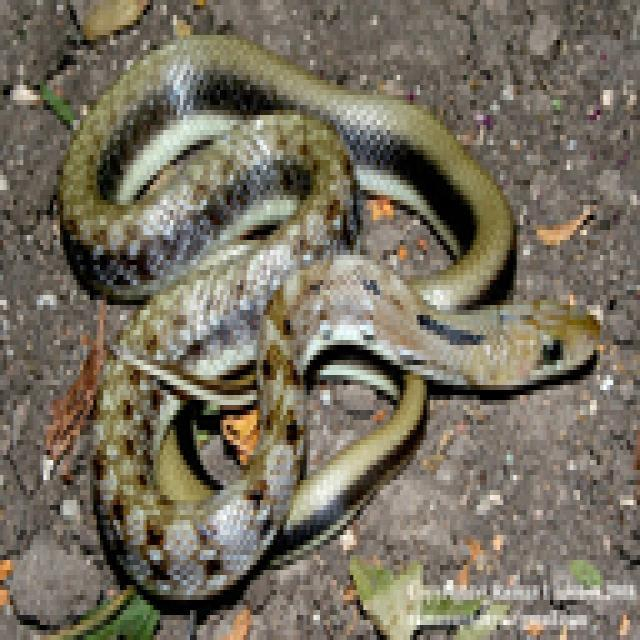Snake: (53, 25, 600, 600)
